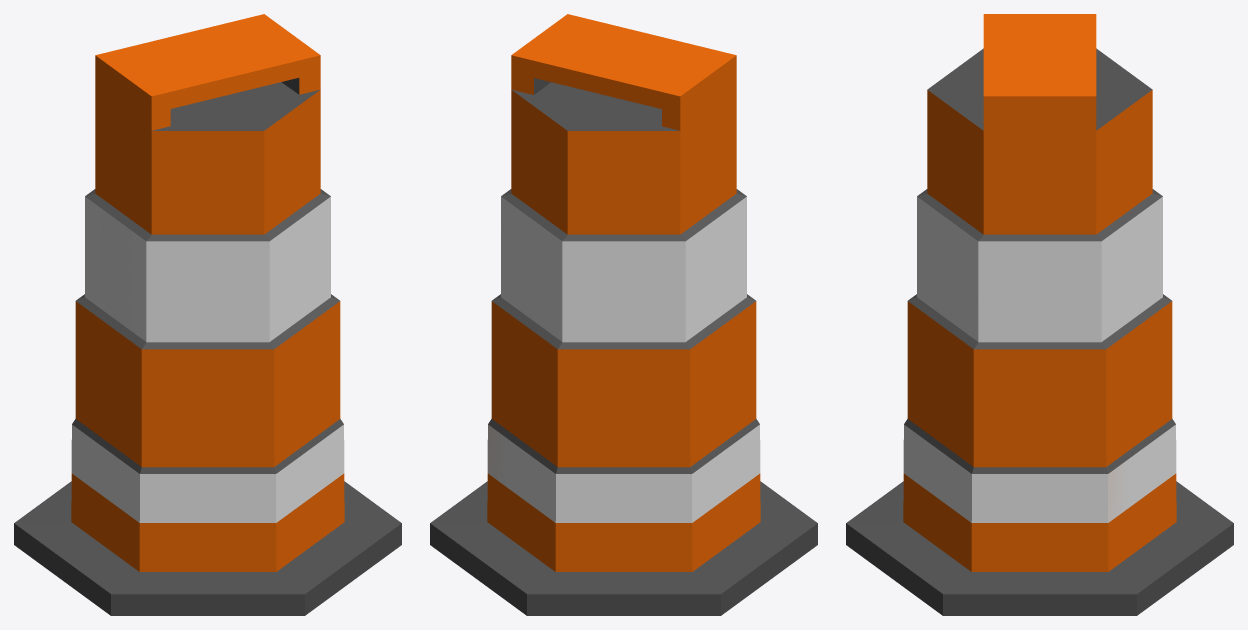
Rendered from fatCone.fbx.
The picture shows the model from 3 angles, left to right: view 1: azimuth 30°, elevation 25°; view 2: azimuth 150°, elevation 25°; view 3: azimuth 270°, elevation 25°; orthographic projection.
Parts seen in each view (by area): view 1: Cone.002; view 2: Cone.002; view 3: Cone.002.
Part boxes in pixels (<box>): Cone.002: <box>14,14,401,615</box>; Cone.002: <box>430,14,817,615</box>; Cone.002: <box>846,14,1233,615</box>.
Size of the model in its own units: 189 by 303 by 218.
